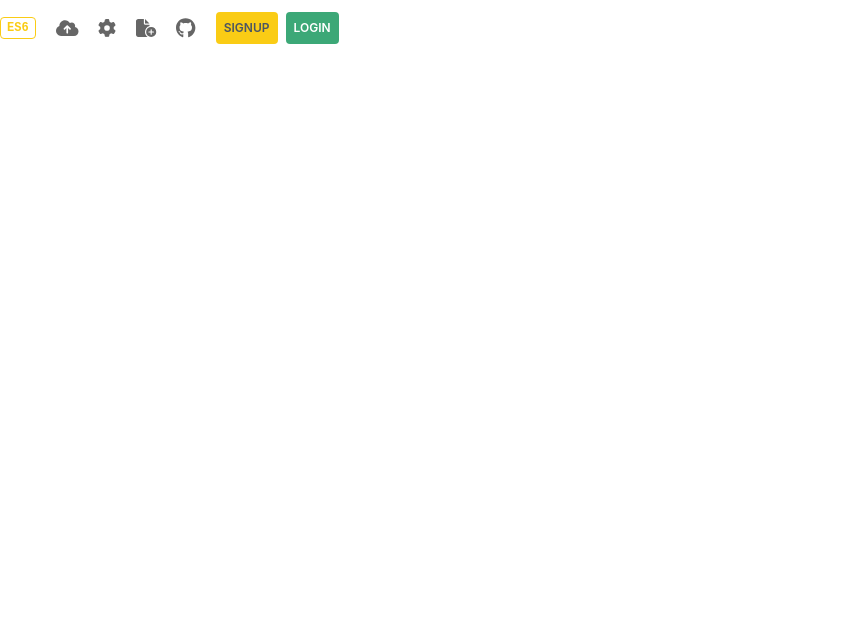
Test: CodeFeature Component › correct show popup › signup popup
Click the button "SIGNUP" at [247, 28], box [216,12,278,44]
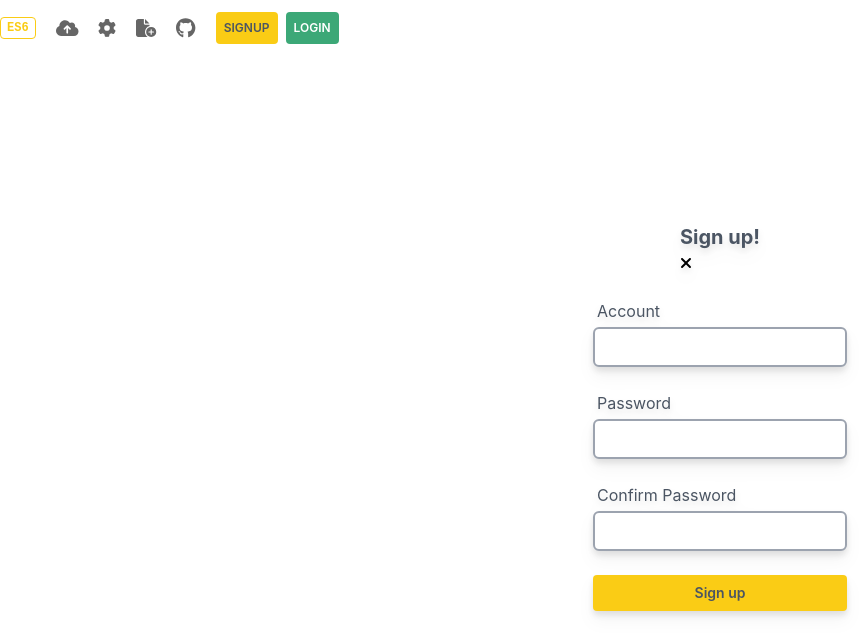
expect the heading "Sign up!" is shown: met, box [680,223,760,251]
